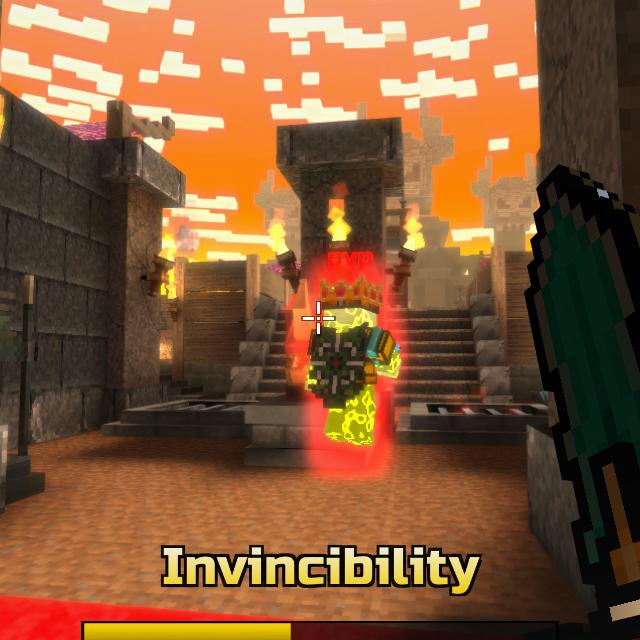Enemy: (306, 282, 402, 445)
